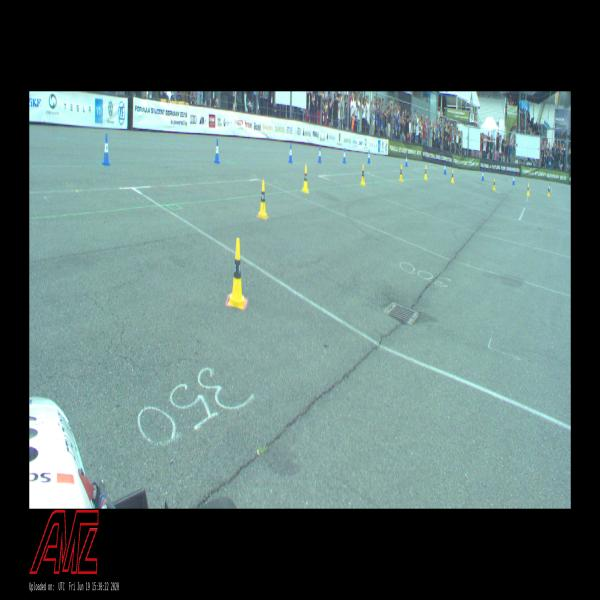blue_cone: (103, 134, 110, 166), (214, 139, 220, 164), (288, 144, 292, 163), (318, 147, 321, 163), (343, 148, 346, 163), (481, 170, 484, 180), (368, 150, 370, 164), (444, 163, 446, 174), (512, 174, 514, 185), (405, 155, 407, 166)
yellow_cone: (228, 239, 246, 309), (258, 180, 267, 218), (302, 165, 308, 192), (361, 164, 365, 186), (399, 164, 403, 182), (526, 183, 530, 195), (424, 165, 427, 180), (451, 169, 454, 183), (493, 178, 496, 190), (547, 185, 550, 196)
